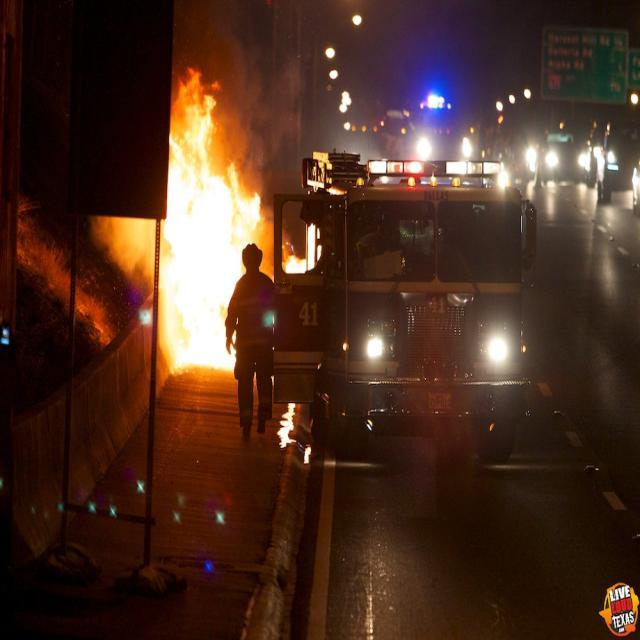Fire: (168, 156, 240, 362)
